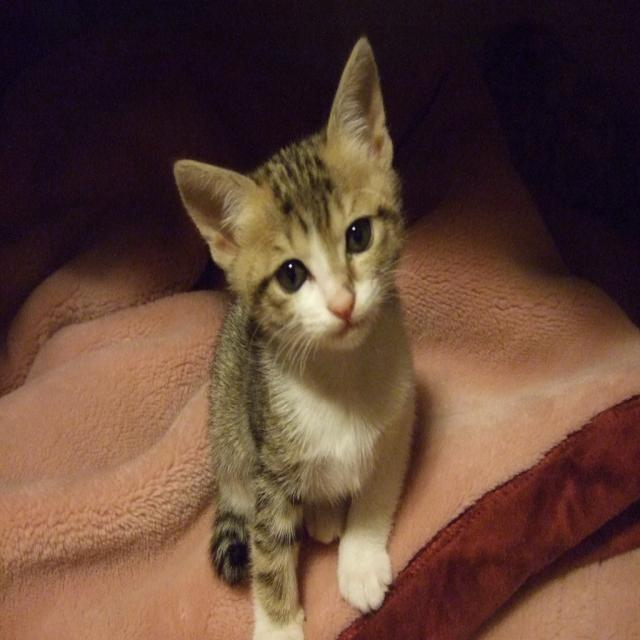Cat: (173, 36, 418, 639)
